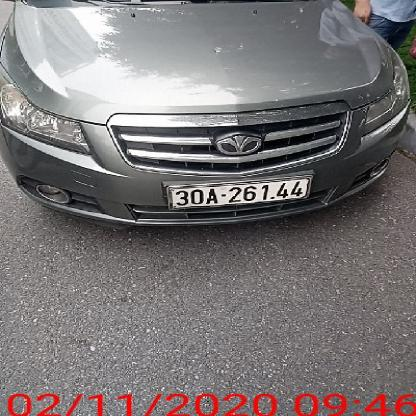biensoxe: (166, 177, 313, 208)
